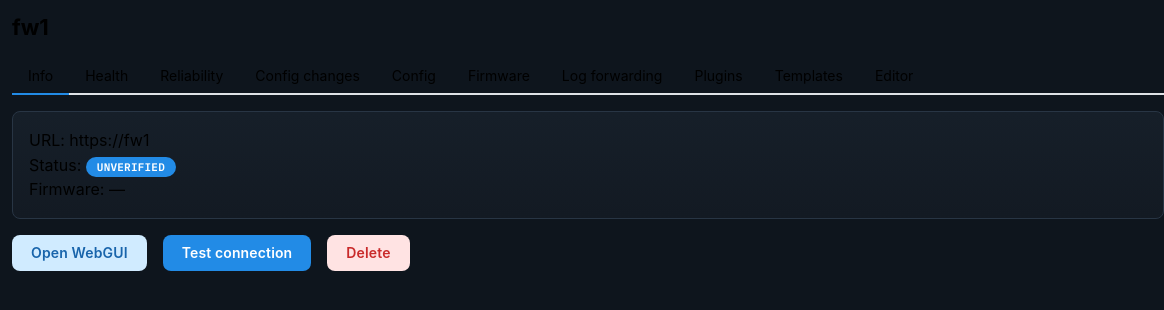
Test: DeviceDetailPage › shows device and runs test-connection
Expected: the heading "fw1" is shown, [12,14,48,40]
Click the button "Test connection".
click(237, 253)  # box [163,235,311,271]
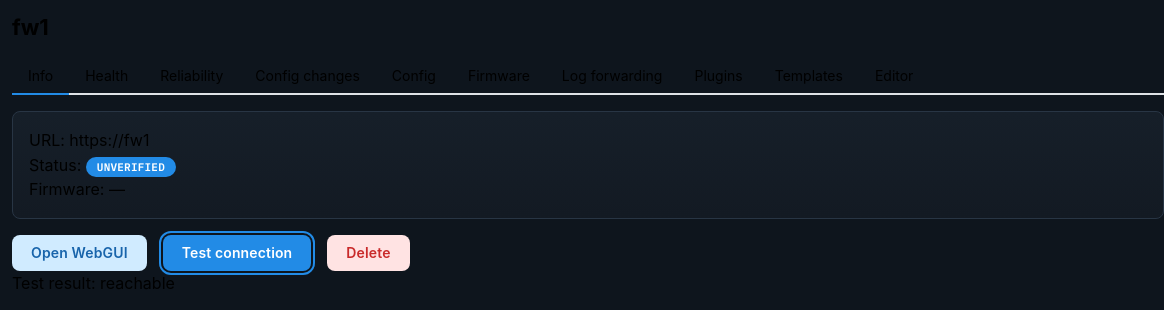
Expected: the text "Test result: reachable" is shown, [12,273,175,293]
